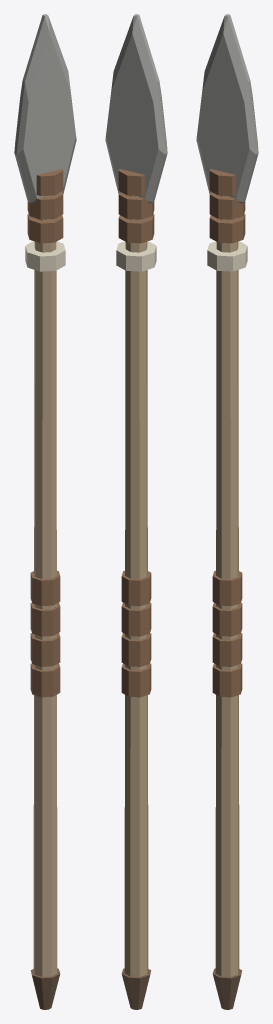
The model's file is lanza_caza.glb.
3 views of the same model, side by side, from view 1: azimuth 30°, elevation 25°; view 2: azimuth 150°, elevation 25°; view 3: azimuth 330°, elevation 25° (orthographic).
Visible parts, largest first — view 1: lanza_caza; view 2: lanza_caza; view 3: lanza_caza.
Part boxes in pixels (x1,y1,x2,y2): lanza_caza: (14, 14, 76, 1009); lanza_caza: (105, 14, 167, 1009); lanza_caza: (196, 14, 258, 1009).
Size of the model in its own units: 0.124 by 1.96 by 0.0748.
